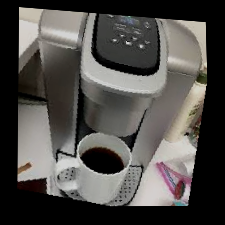10oz: (124, 41, 132, 48)
12oz: (138, 43, 146, 50)
4oz: (118, 33, 126, 39)
6oz: (131, 35, 139, 42)
8oz: (111, 38, 118, 44)
coffee_handle: (94, 79, 153, 103)
water_handle: (39, 38, 76, 52)
